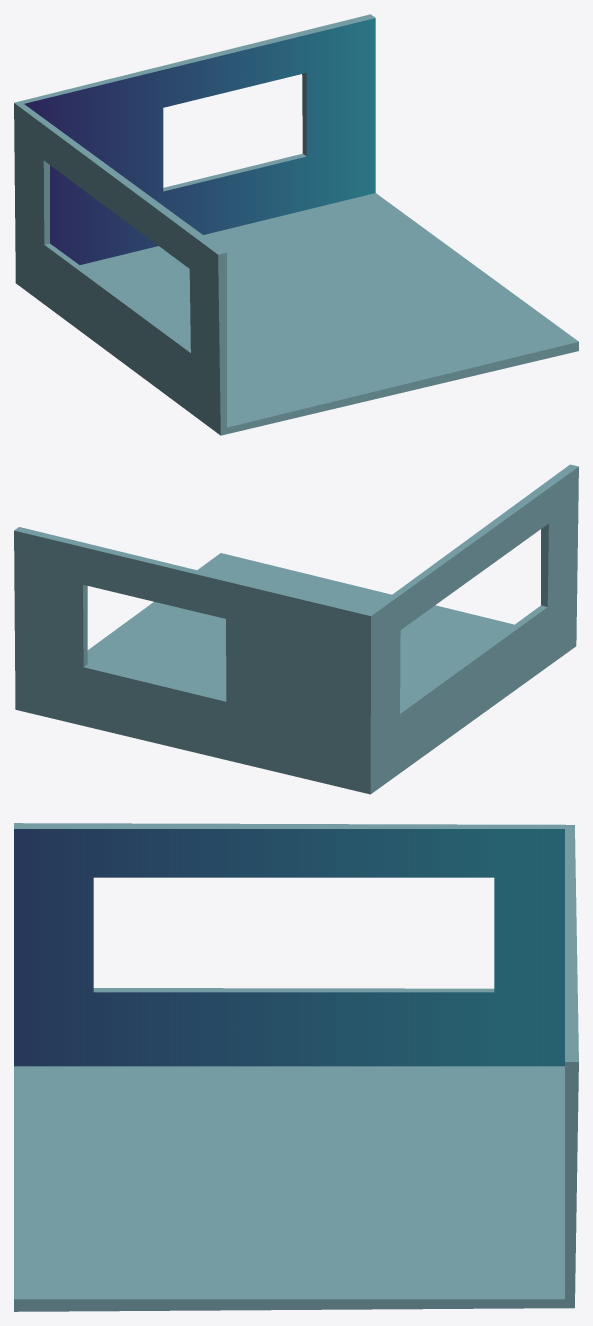
File: room4.fbx
The picture shows the model from 3 angles, top to bottom: view 1: azimuth 30°, elevation 25°; view 2: azimuth 150°, elevation 25°; view 3: azimuth 270°, elevation 25°; orthographic projection. The views are drawn at different scales.
Parts seen in each view (by area): view 1: Plane; view 2: Plane; view 3: Plane.
Part boxes in pixels (bbox=[...]): Plane: bbox=[14, 14, 578, 435]; Plane: bbox=[14, 464, 578, 794]; Plane: bbox=[14, 823, 578, 1311].
Size of the model in its own units: 1228 by 599 by 1228.
